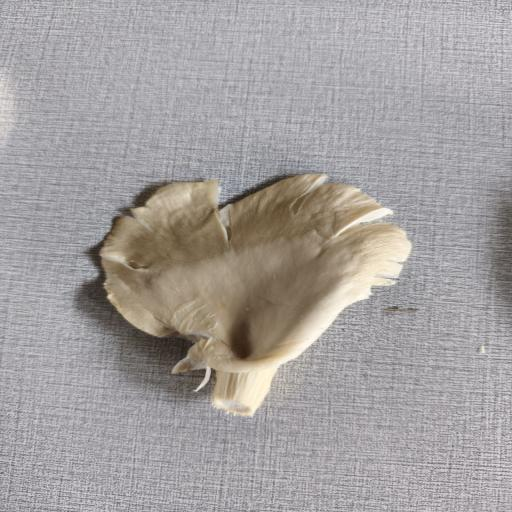White Oyster Mushroom: (75, 160, 411, 423)
